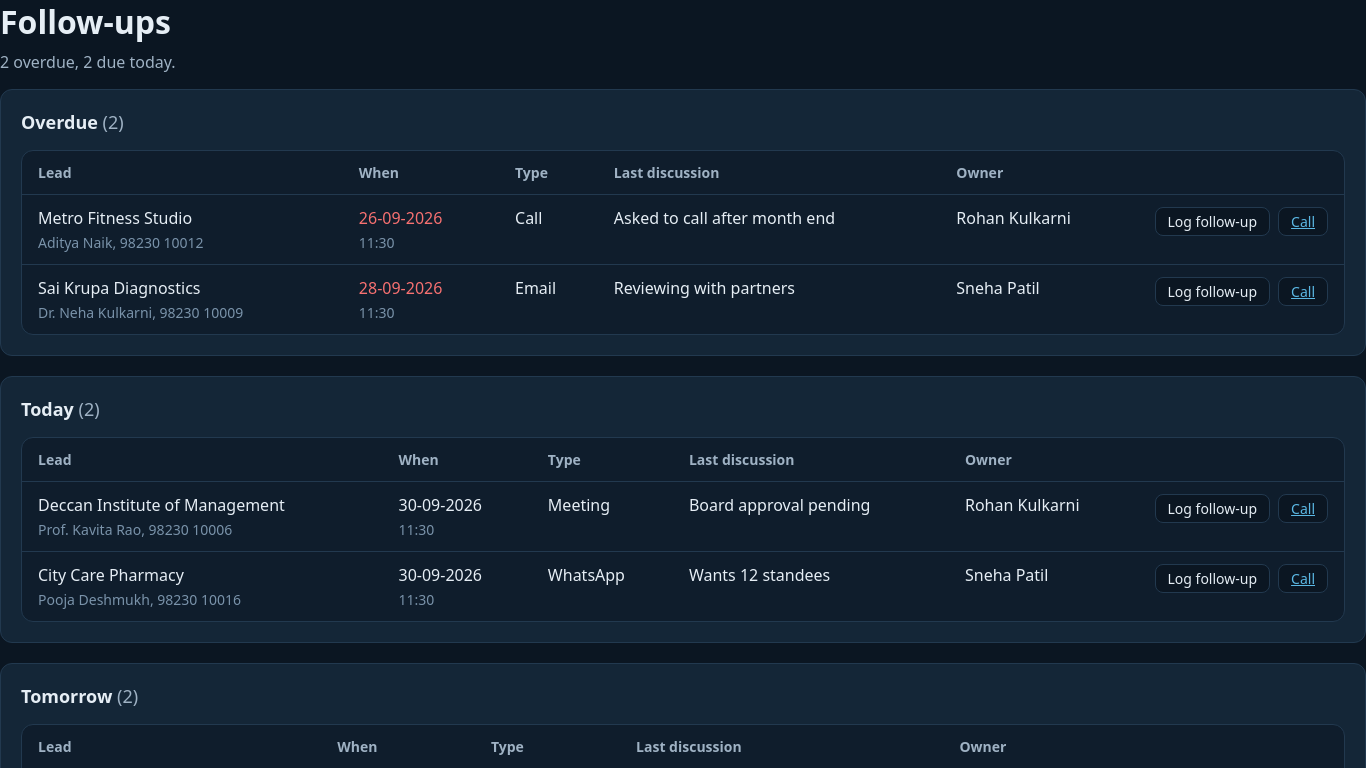
Test case: FollowUpsPanel › logs a follow-up and moves it to its new date
Step 1. Click the button named "Log follow-up for Metro Fitness Studio" → (1212, 222), box [1154,207,1270,236]
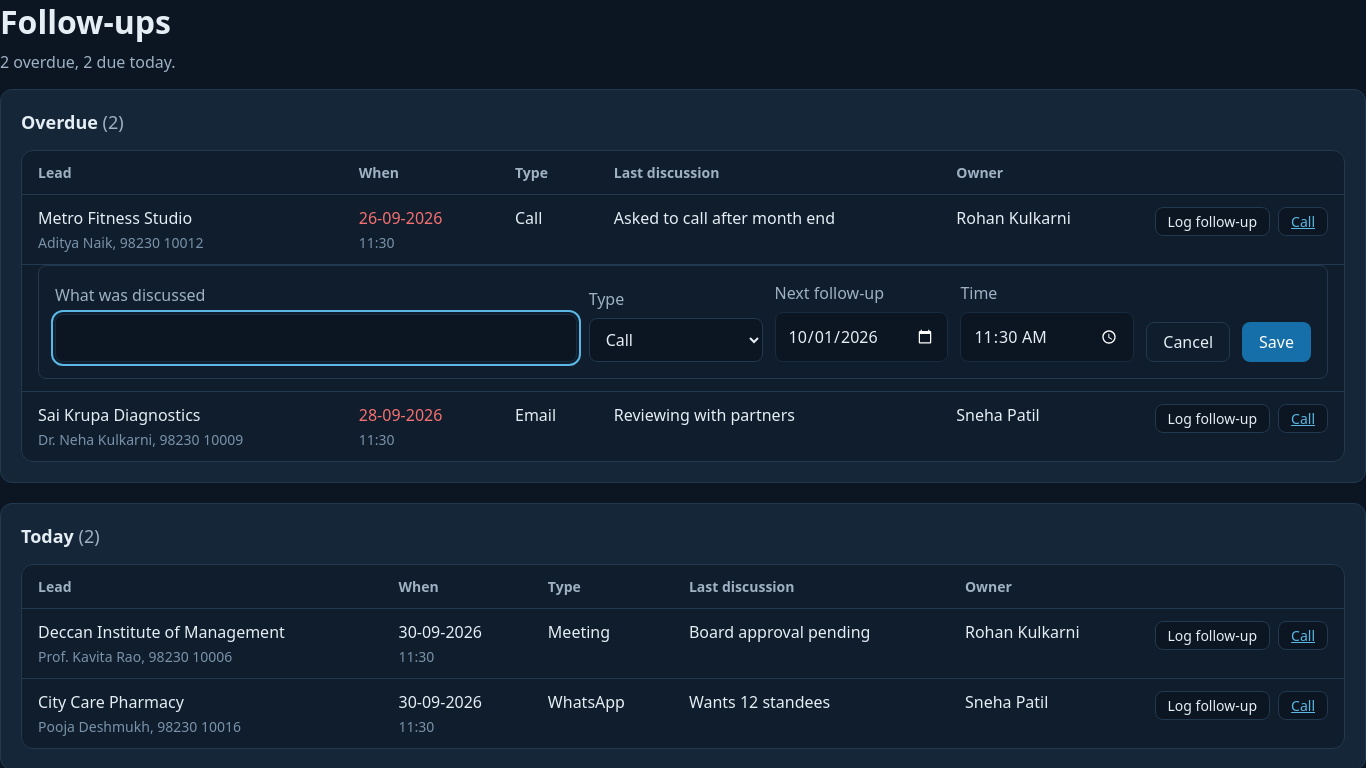
Step 2. Type "Agreed to a demo" into the field labelled "What was discussed" → (316, 338), box [55,314,577,362]
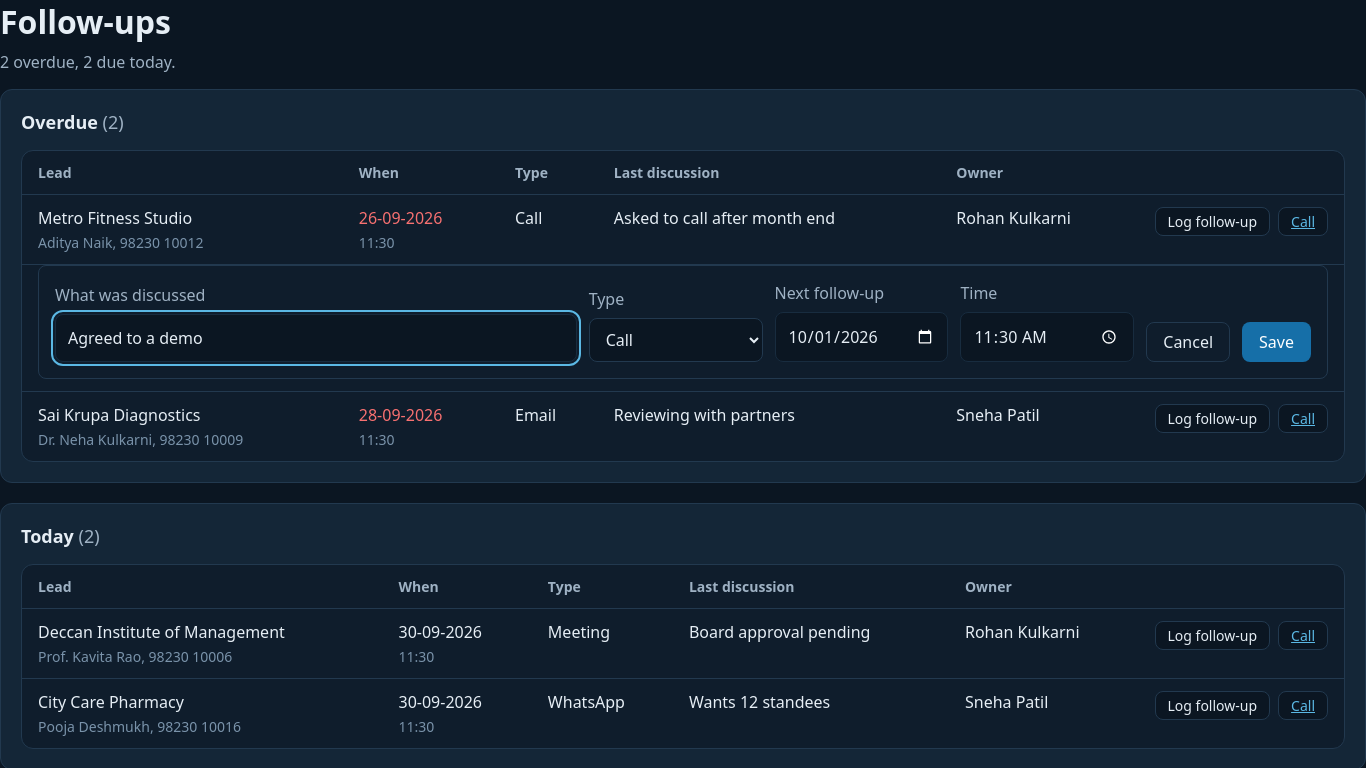
Step 3. Select "Meeting" in the dropdown labelled "Type" → (676, 340), box [589,318,762,362]
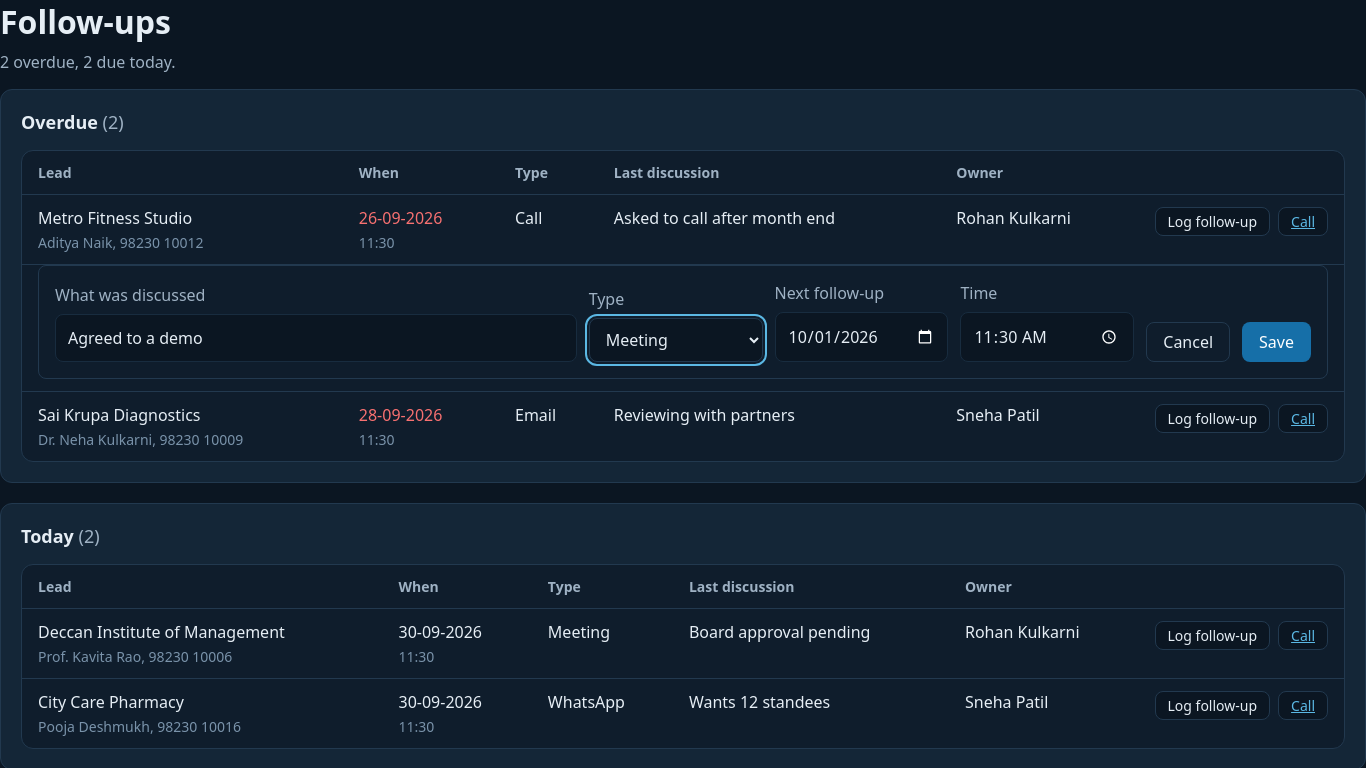
Step 4. Click the button "Save" → (1277, 342), box [1242,322,1311,362]
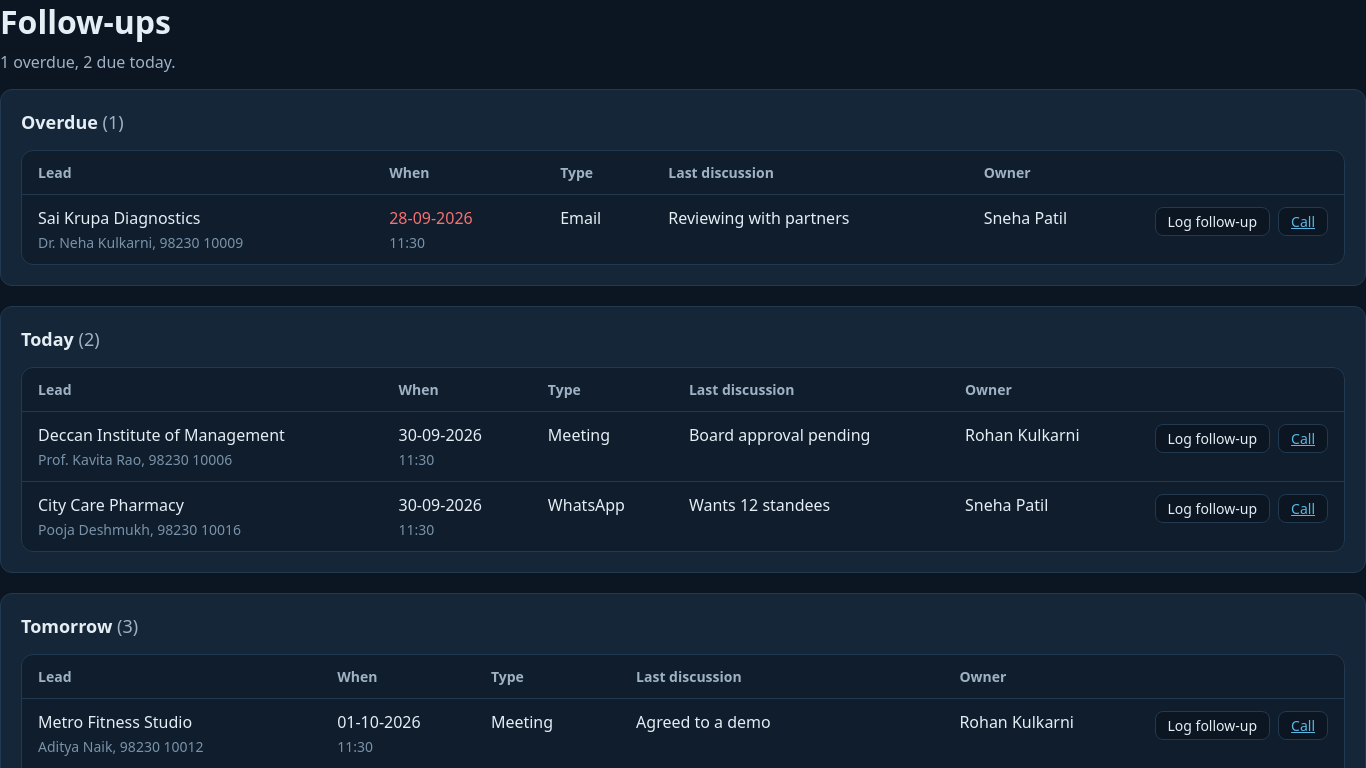
Result: the text "1 overdue, 2 due today." is shown at [0,51,176,73]
